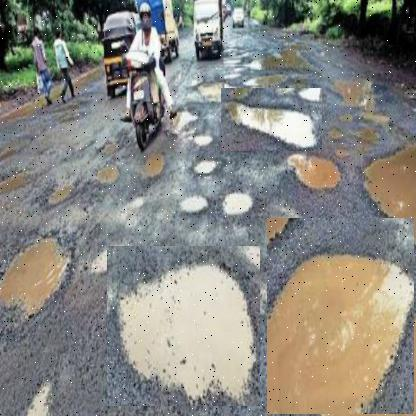pothole_water: (268, 218, 416, 415), (107, 246, 261, 407), (0, 219, 88, 326), (221, 89, 324, 152)
